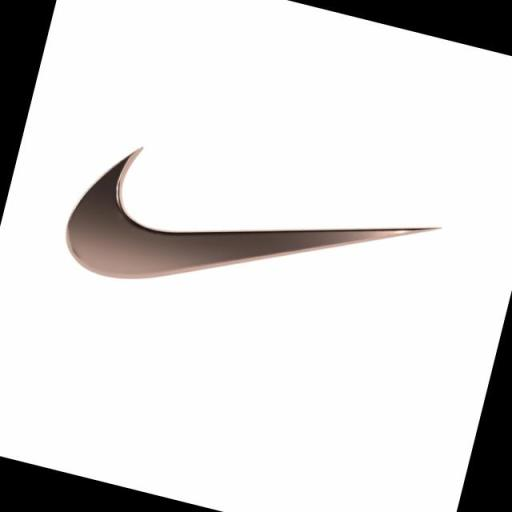Nike: (54, 136, 448, 356)
